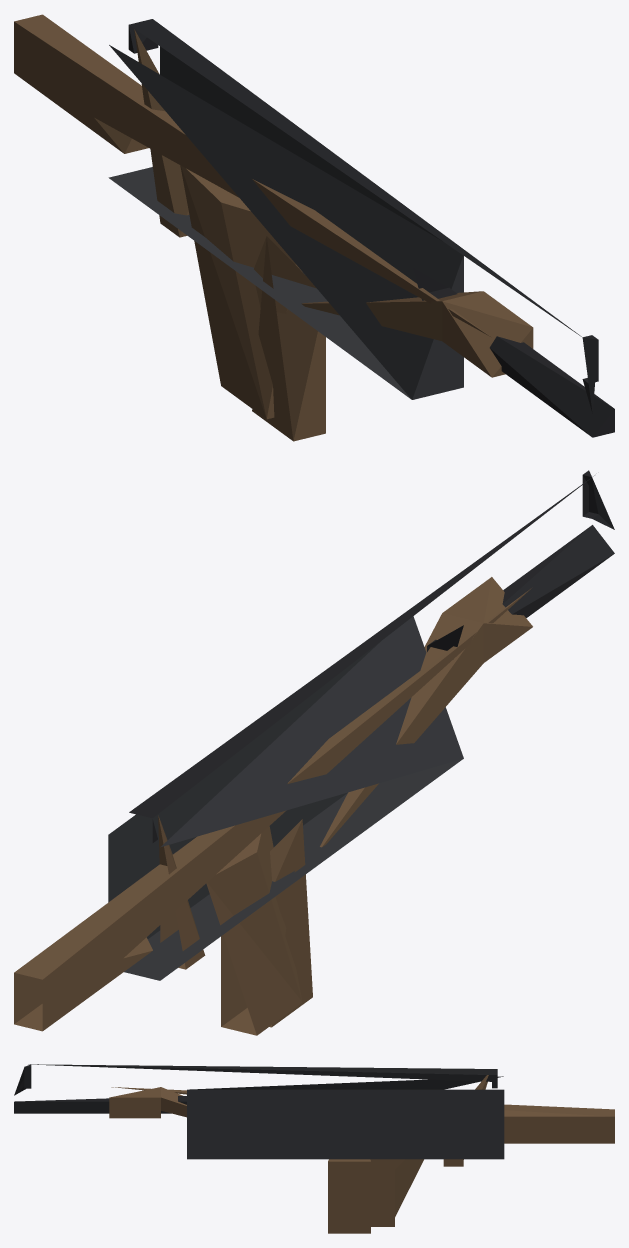
The model's file is commando.obj.
The picture shows the model from 3 angles, top to bottom: view 1: azimuth 30°, elevation 25°; view 2: azimuth 150°, elevation 25°; view 3: azimuth 270°, elevation 25°; orthographic projection. The views are drawn at different scales.
Bounding box in the file's own units: 0.065 × 0.3725 × 1.25.
